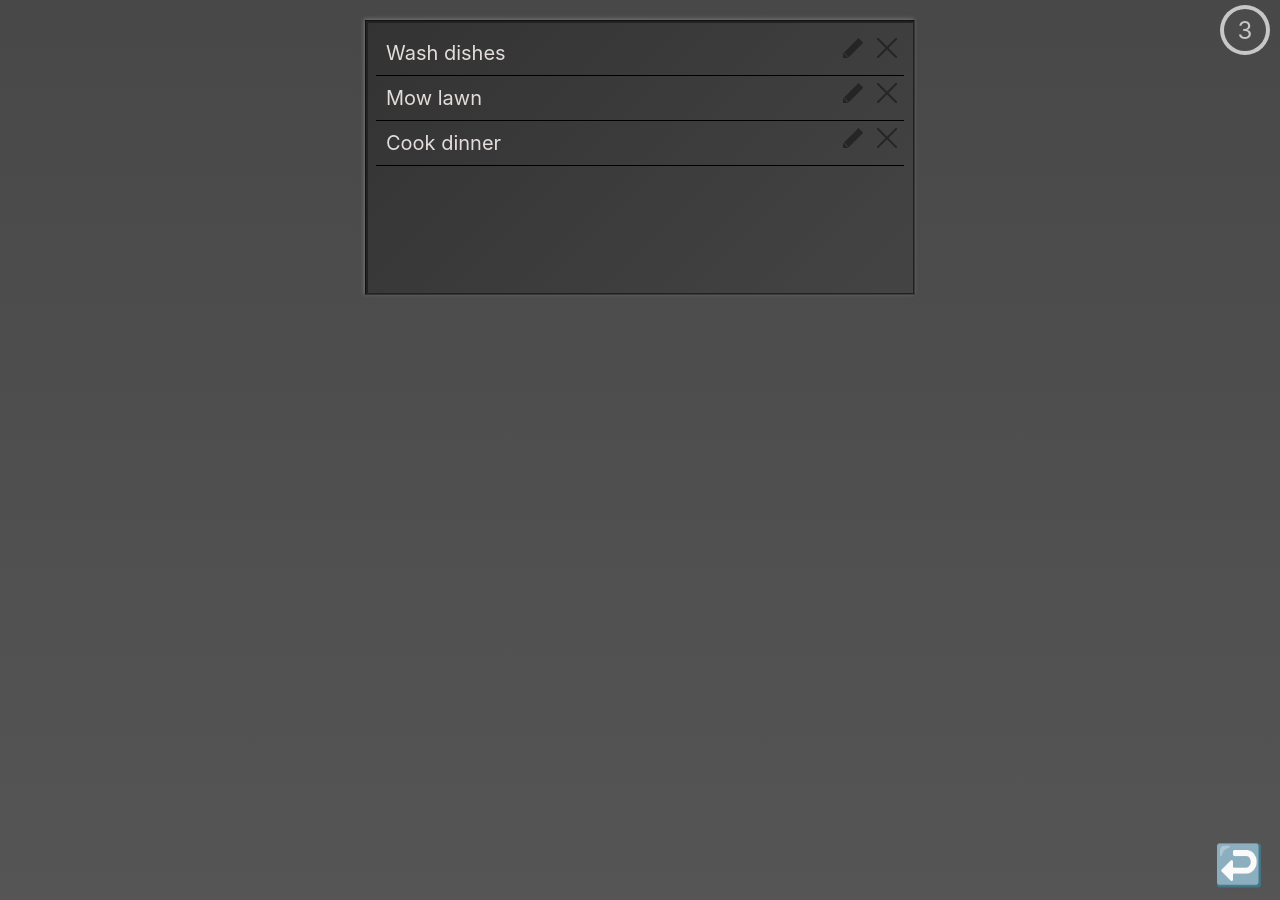
it: the list › shows the number of uncompleted items in the list
This screenshot has width=1280, height=900.
Expected: the text named "tasks remaining" reads "3", [1238,16,1252,44]
Click the label "Wash dishes" at (446, 53), box [386,41,506,65]
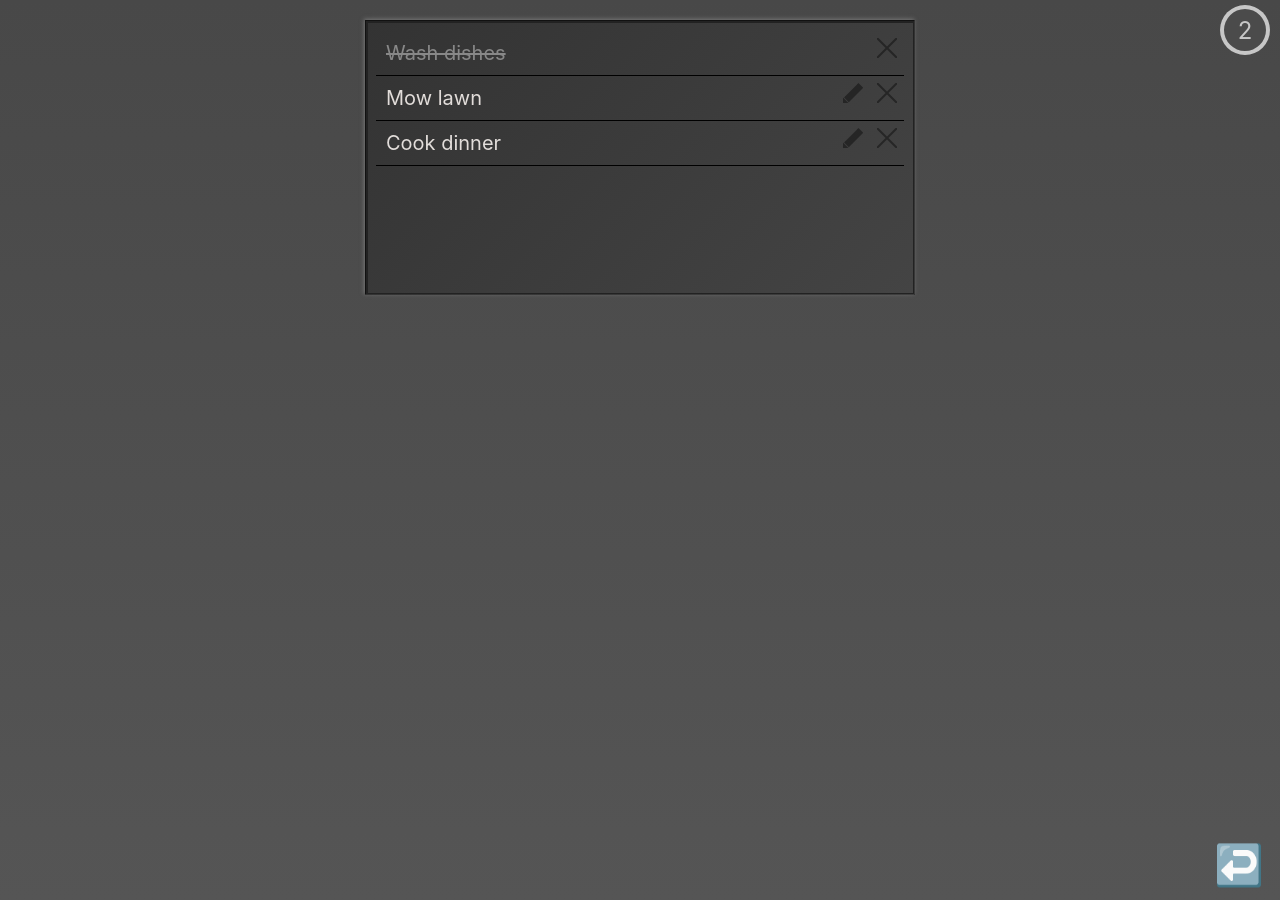
Expected: the text named "tasks remaining" reads "2", [1238,16,1252,44]
